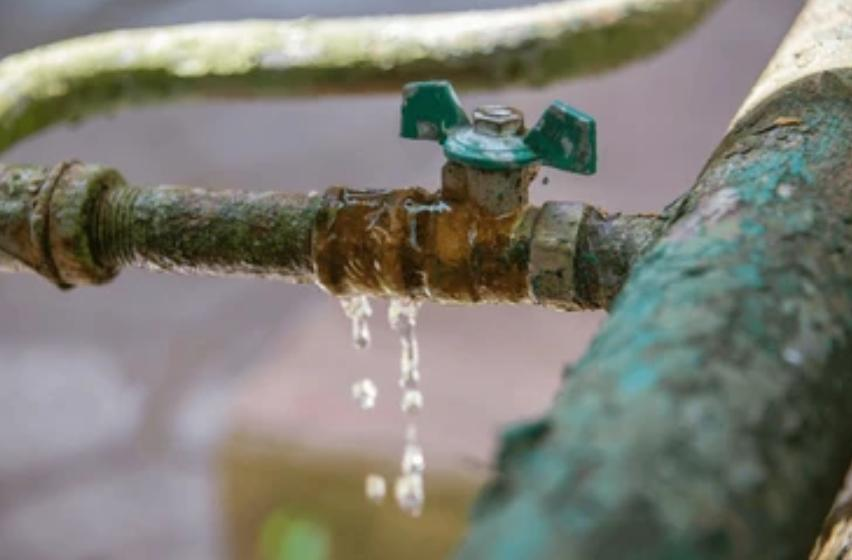water drop: (342, 295, 377, 350), (351, 377, 377, 411), (365, 474, 385, 504)
